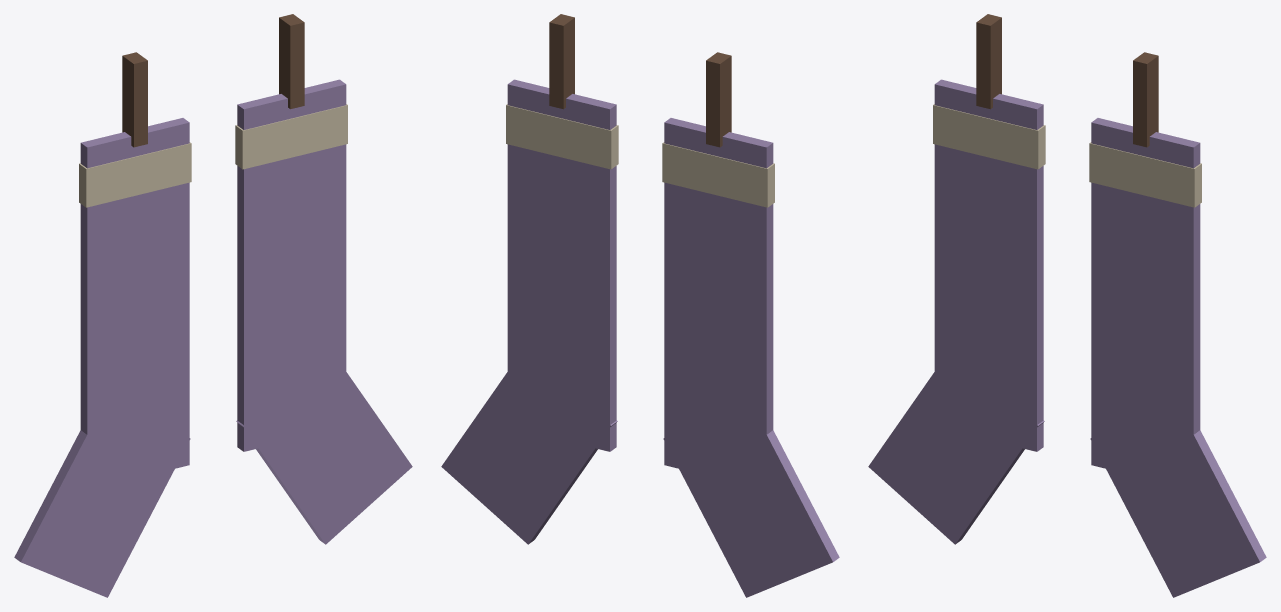
File: socks-line-mint.glb
3 views of the same model, side by side, from view 1: azimuth 30°, elevation 25°; view 2: azimuth 150°, elevation 25°; view 3: azimuth 330°, elevation 25° (orthographic).
Visible parts, largest first — view 1: accent-lilac, paper, wood; view 2: accent-lilac, paper, wood; view 3: accent-lilac, paper, wood.
Part boxes in pixels (box(x1,y1,x2,y2)): accent-lilac: box(14, 79, 412, 597); paper: box(79, 104, 347, 207); wood: box(122, 14, 304, 147); accent-lilac: box(441, 79, 839, 597); paper: box(506, 104, 774, 207); wood: box(549, 14, 731, 147); accent-lilac: box(868, 79, 1266, 597); paper: box(933, 104, 1201, 207); wood: box(976, 14, 1158, 147).
Bounding box in the file's own units: 0.2754 × 0.3557 × 0.014.
